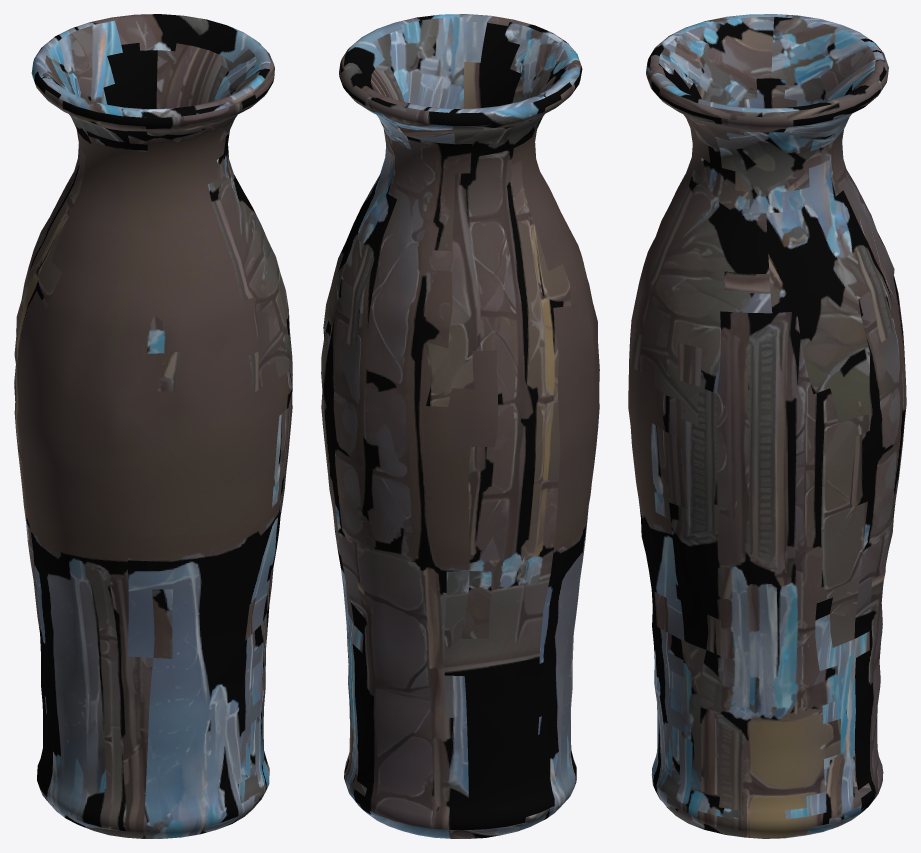
The model's file is Vase_FBX.fbx.
The picture shows the model from 3 angles, left to right: view 1: azimuth 30°, elevation 25°; view 2: azimuth 150°, elevation 25°; view 3: azimuth 270°, elevation 25°; orthographic projection.
Parts seen in each view (by area): view 1: Vase_Floor; view 2: Vase_Floor; view 3: Vase_Floor.
Boxes of the visible parts, box(x1,y1,x2,y2) form: Vase_Floor: box(14, 14, 292, 838); Vase_Floor: box(321, 14, 599, 838); Vase_Floor: box(628, 14, 906, 838).
Bounding box in the file's own units: 34.34 × 99.98 × 34.31.
